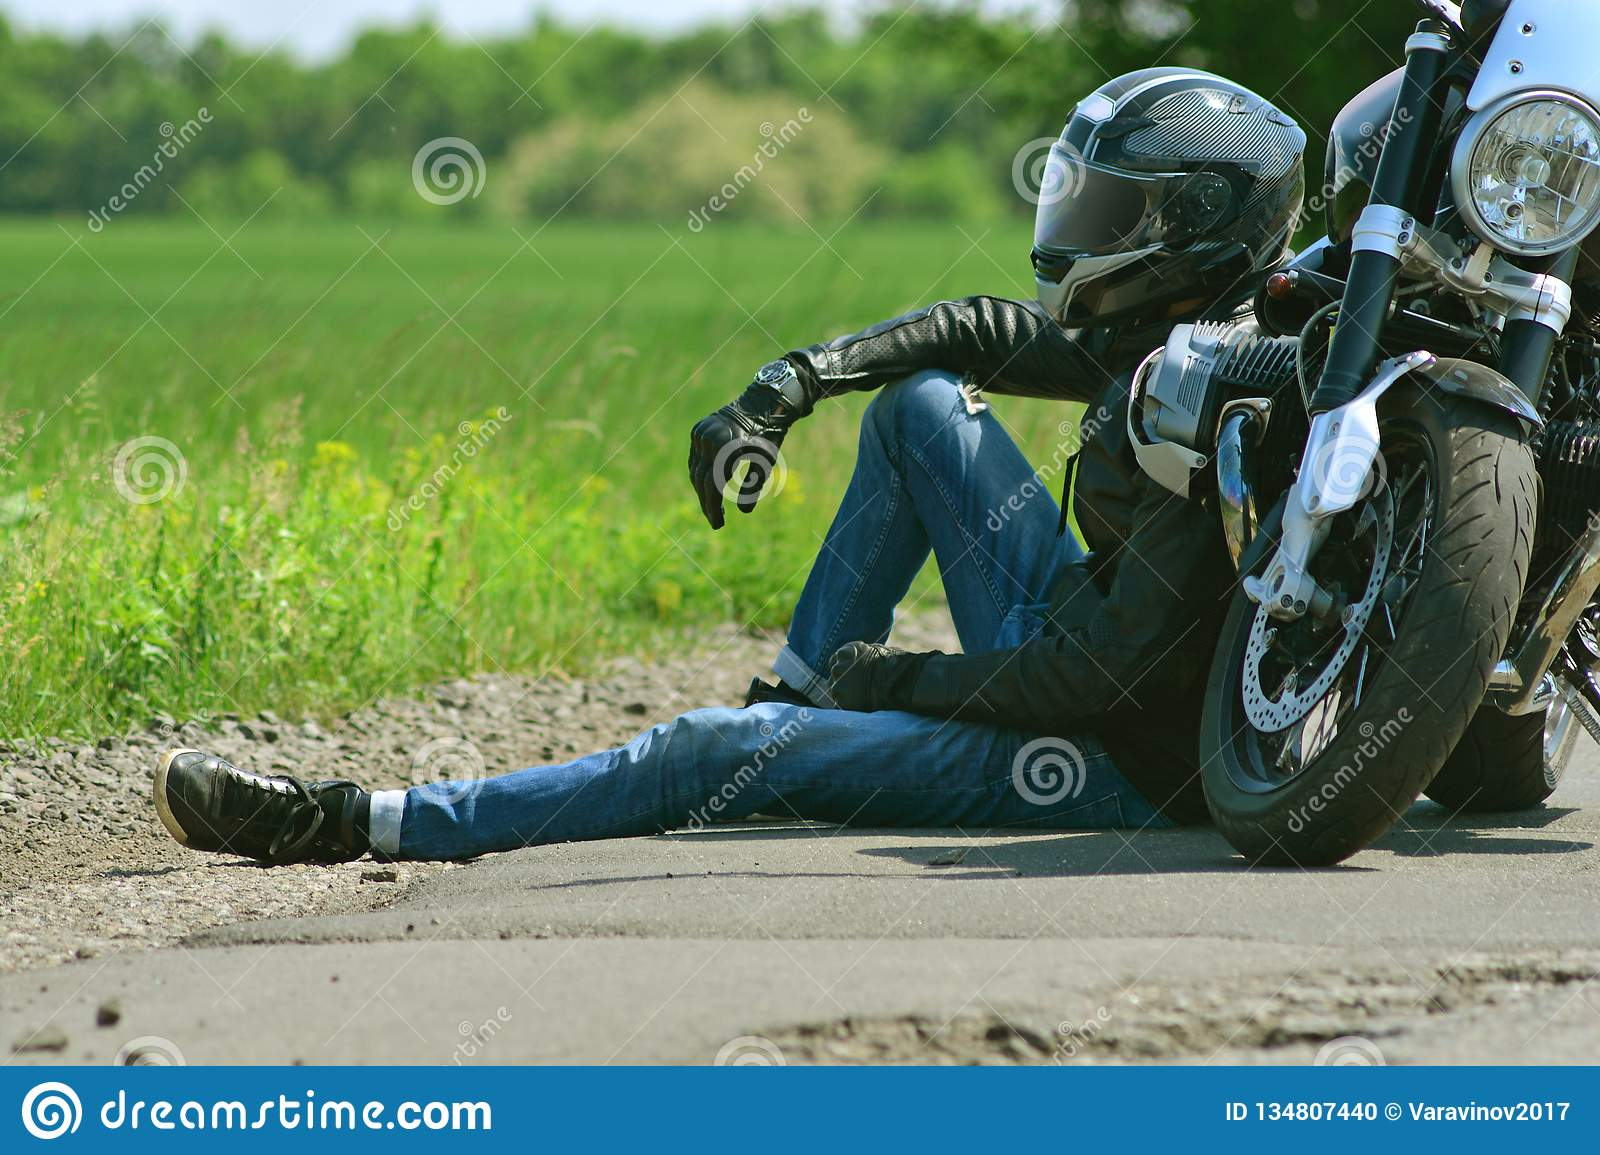helmet: (1041, 72, 1314, 338)
